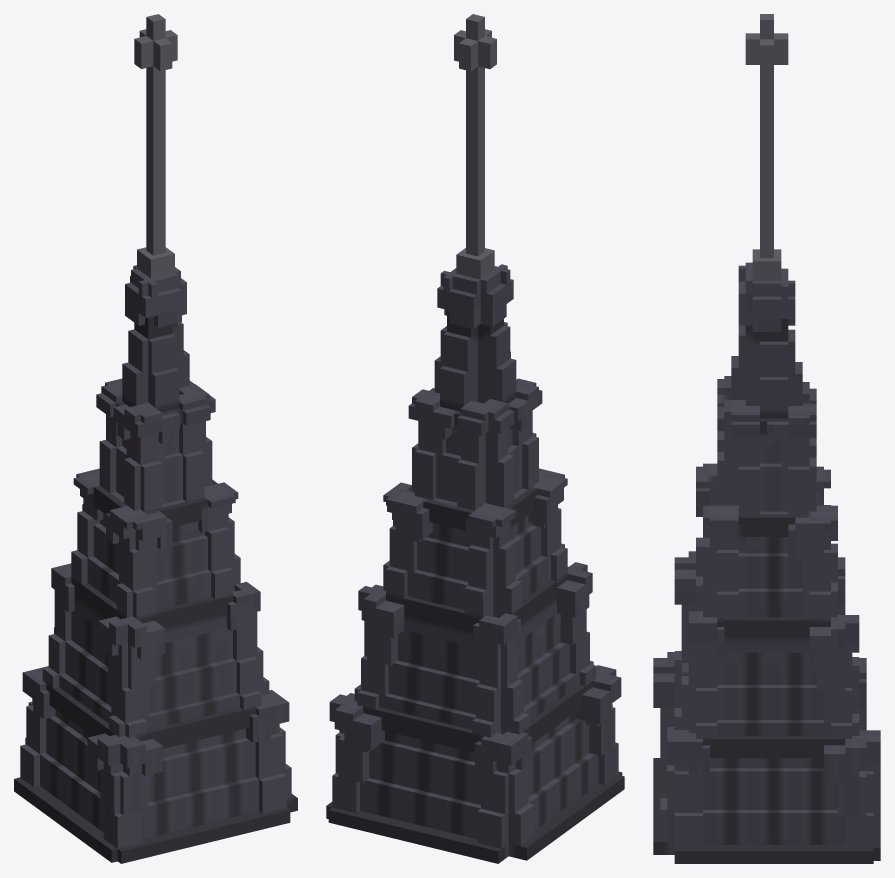
The model's file is TowerRooftop-0.fbx.
3 renders of one model, left to right at view 1: azimuth 30°, elevation 25°; view 2: azimuth 150°, elevation 25°; view 3: azimuth 270°, elevation 25°, orthographic. The views are drawn at different scales.
Parts seen in each view (by area): view 1: TowerRooftop-0; view 2: TowerRooftop-0; view 3: TowerRooftop-0.
Part boxes in pixels (x1,y1,x2,y2): TowerRooftop-0: [14, 14, 297, 863]; TowerRooftop-0: [326, 14, 624, 863]; TowerRooftop-0: [653, 14, 880, 863].
Bounding box in the file's own units: 160 × 620 × 160.
